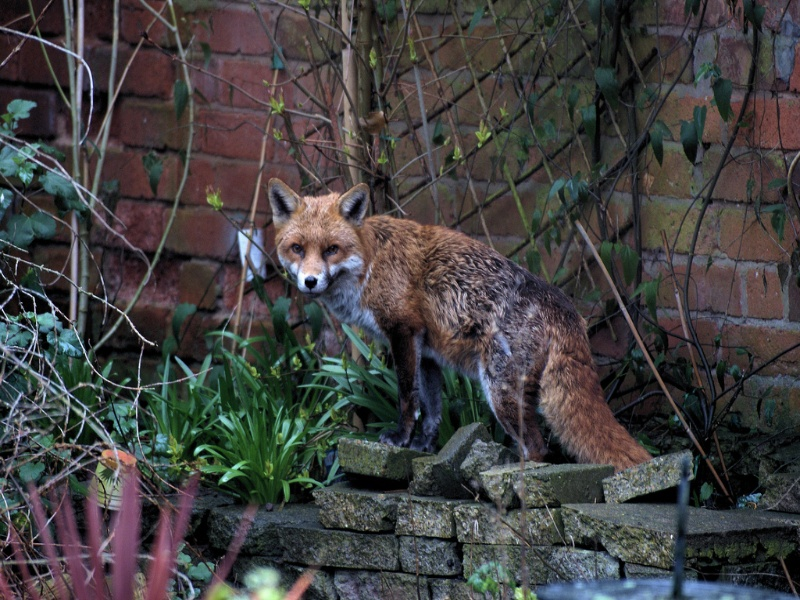fox: (264, 171, 656, 488)
